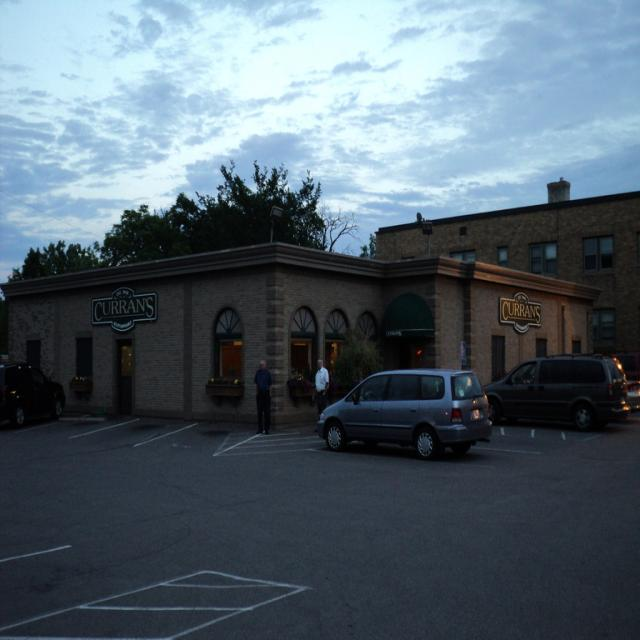car: (314, 364, 494, 461), (486, 350, 630, 434)
